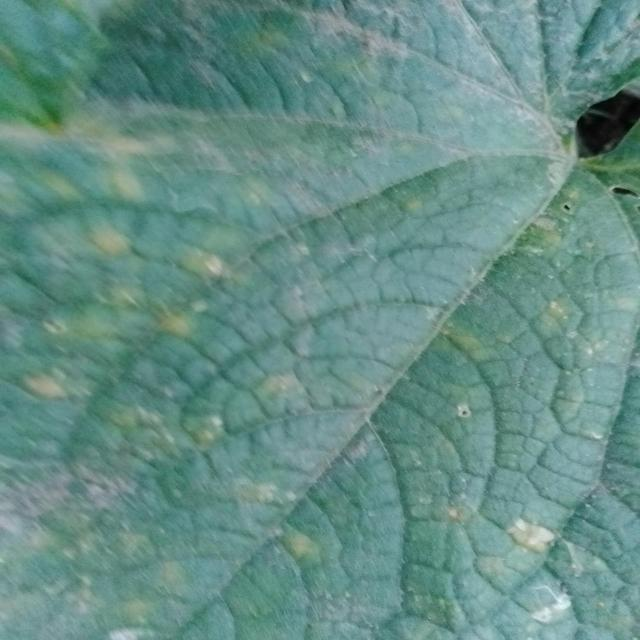cucumber_downy: (8, 10, 640, 640)
